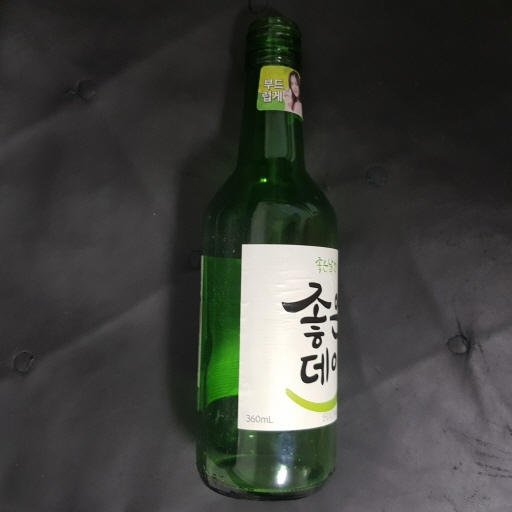Glass_0: (171, 13, 342, 497)
